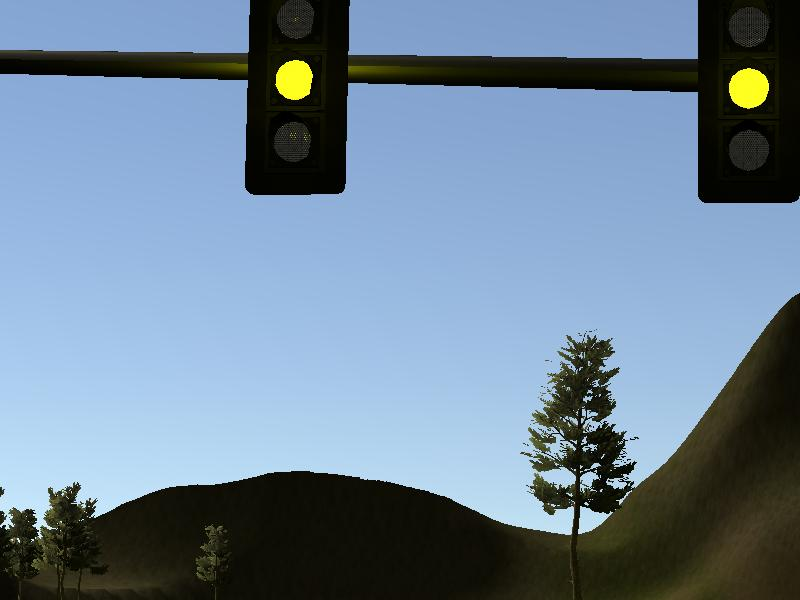yellow: (697, 1, 800, 205), (248, 1, 350, 196)
